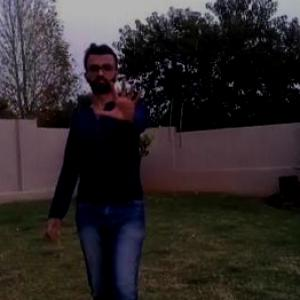follow_hand: (94, 71, 148, 127)
